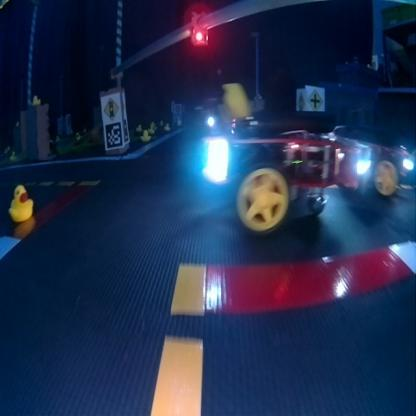Duckie: (223, 82, 250, 116), (9, 184, 33, 221), (140, 129, 150, 141), (31, 95, 40, 103), (10, 151, 17, 159), (164, 123, 169, 130)
Duckiebot: (202, 122, 356, 231)
Intersection sign: (307, 88, 324, 110)
QR code: (103, 122, 121, 148), (174, 113, 181, 121)
Signal sign: (102, 96, 120, 121)
Stop sign: (173, 103, 180, 112)
Traffic light: (191, 14, 208, 43)
